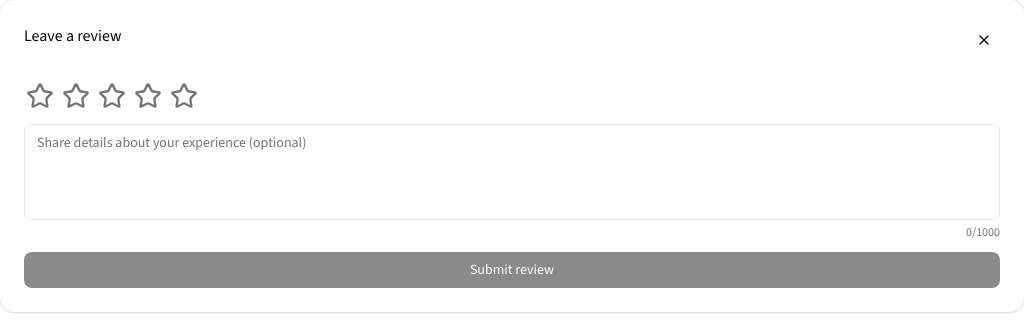
Scenario: ReviewCard › shows a live character counter for the comment
Expected: the text "0/1000" is shown, [966, 224, 1000, 240]
Type "Great work" into the text box named "Review comment".
click(512, 172); type("Great work")  # box [24, 124, 1000, 220]
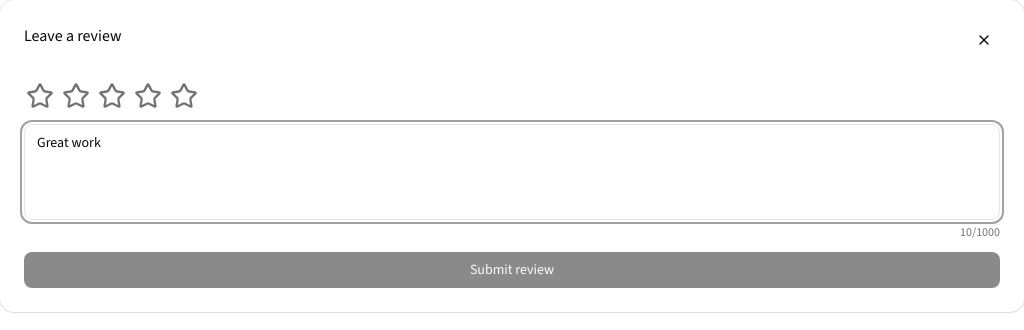
Result: the text "10/1000" is shown at [960, 224, 1000, 240]
